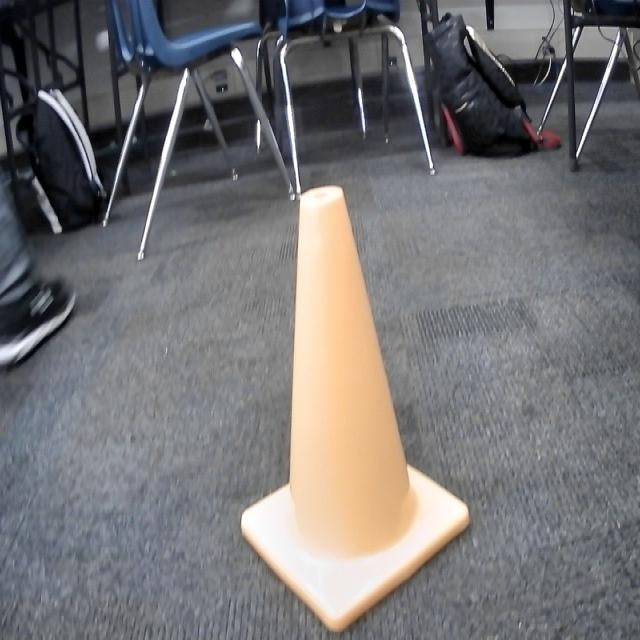cone: (240, 182, 470, 636)
